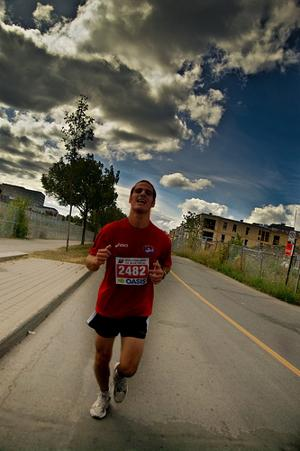person: (85, 182, 174, 420)
